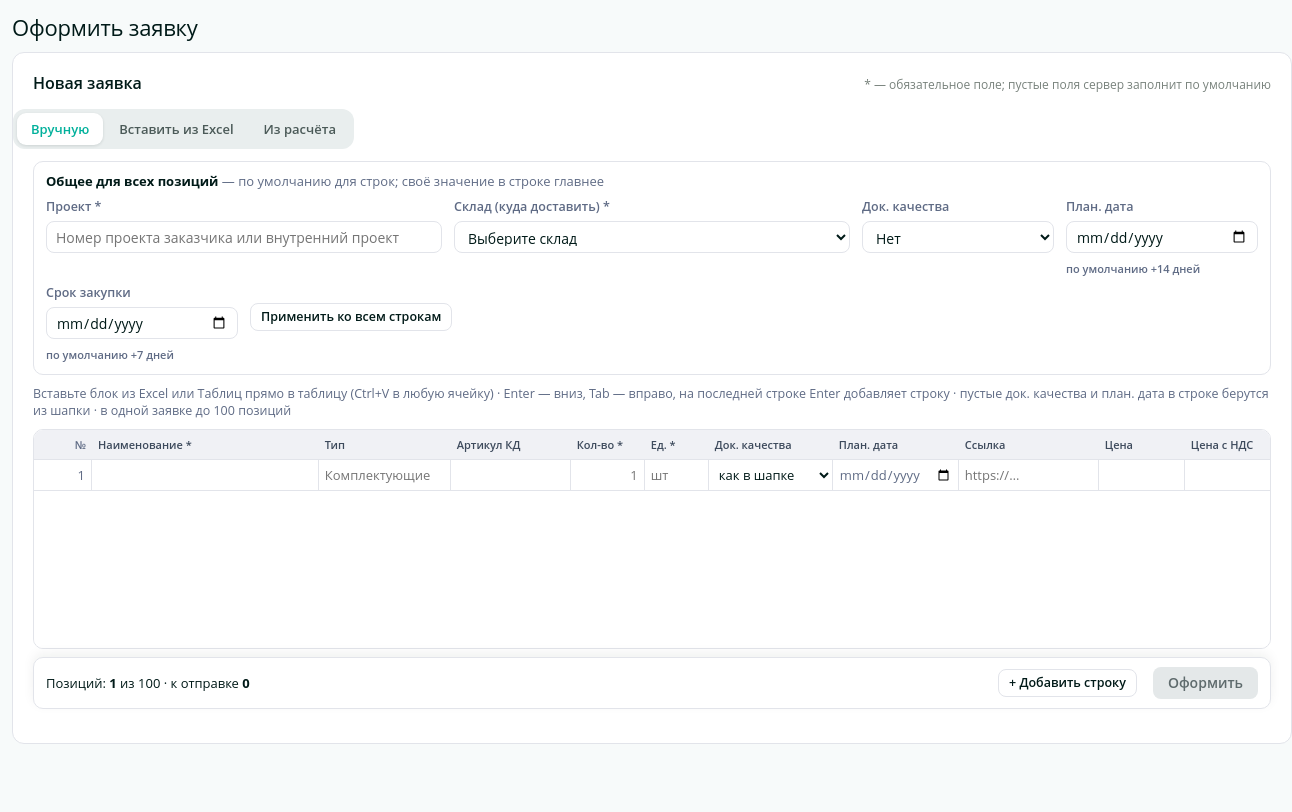
Scenario: request form: internal projects group › lists open internal projects and locks the purpose to the chosen one
The image size is (1292, 812).
Focus the dropdown labelled "Проект". click: (244, 237)
box: x1=46 y1=221 x2=442 y2=253
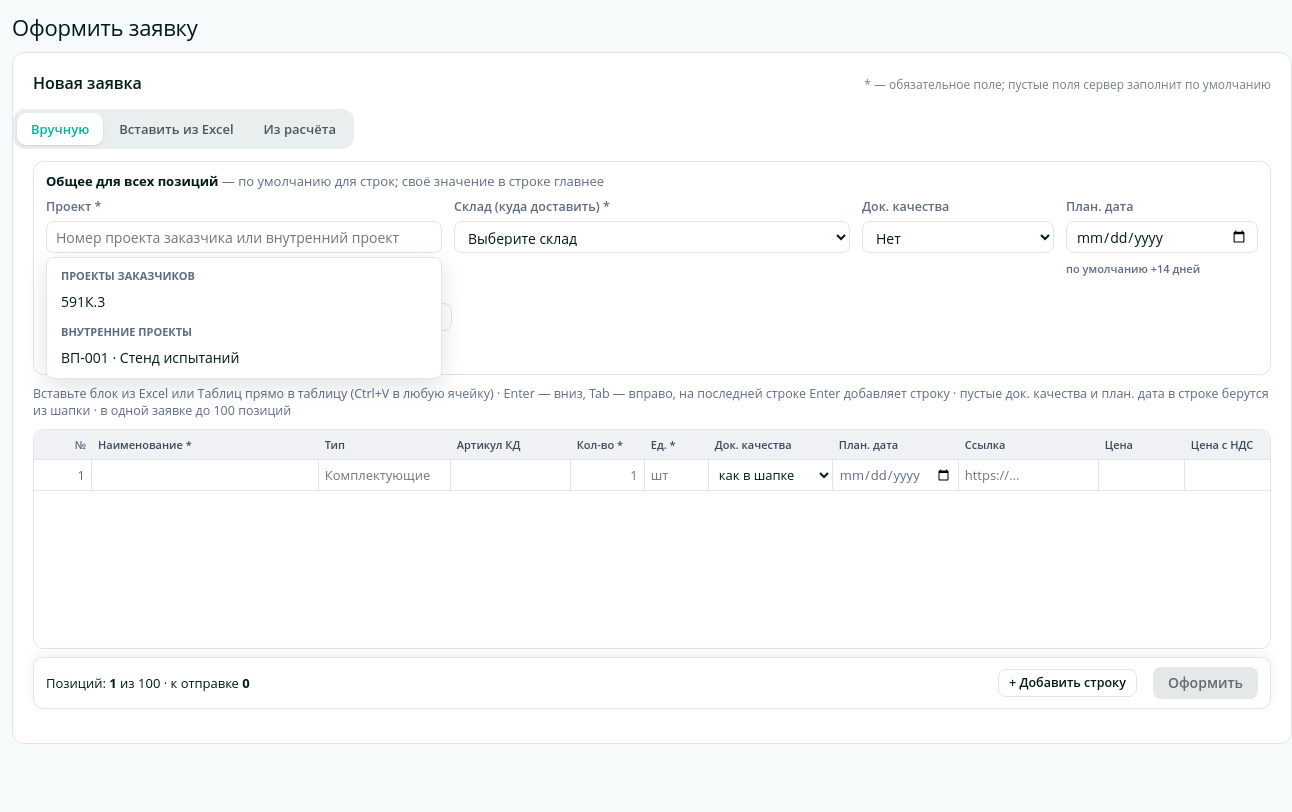
Expected: the option "НИОКР (опытный образец)" is not shown
Expected: the list item "Внутренние проекты" is shown, x1=61 y1=324 x2=192 y2=339
Press the mouse on the option "ВП-001 · Стенд испытаний" at (150, 358), box x1=61 y1=348 x2=239 y2=367
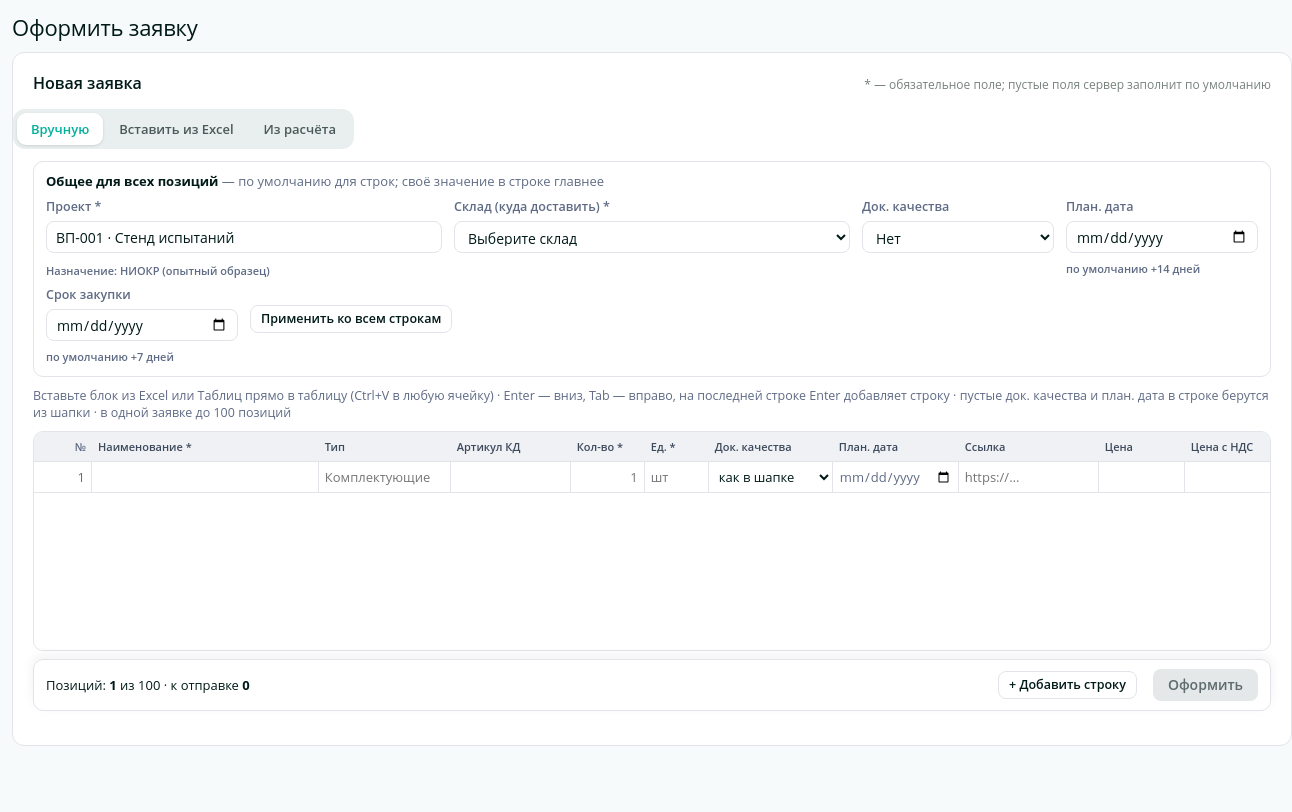
Expected: the text "Назначение: НИОКР (опытный образец)" is shown, x1=46 y1=263 x2=270 y2=278
